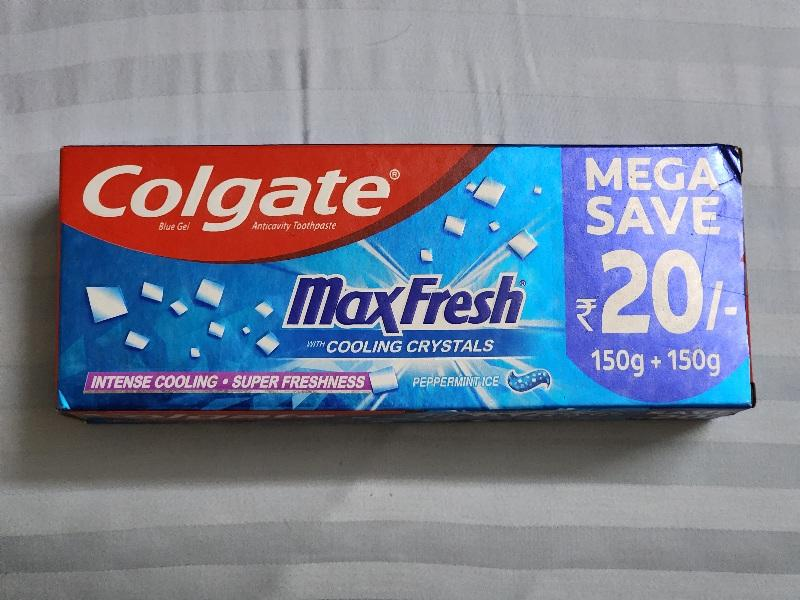Colgate: (57, 149, 748, 405)
